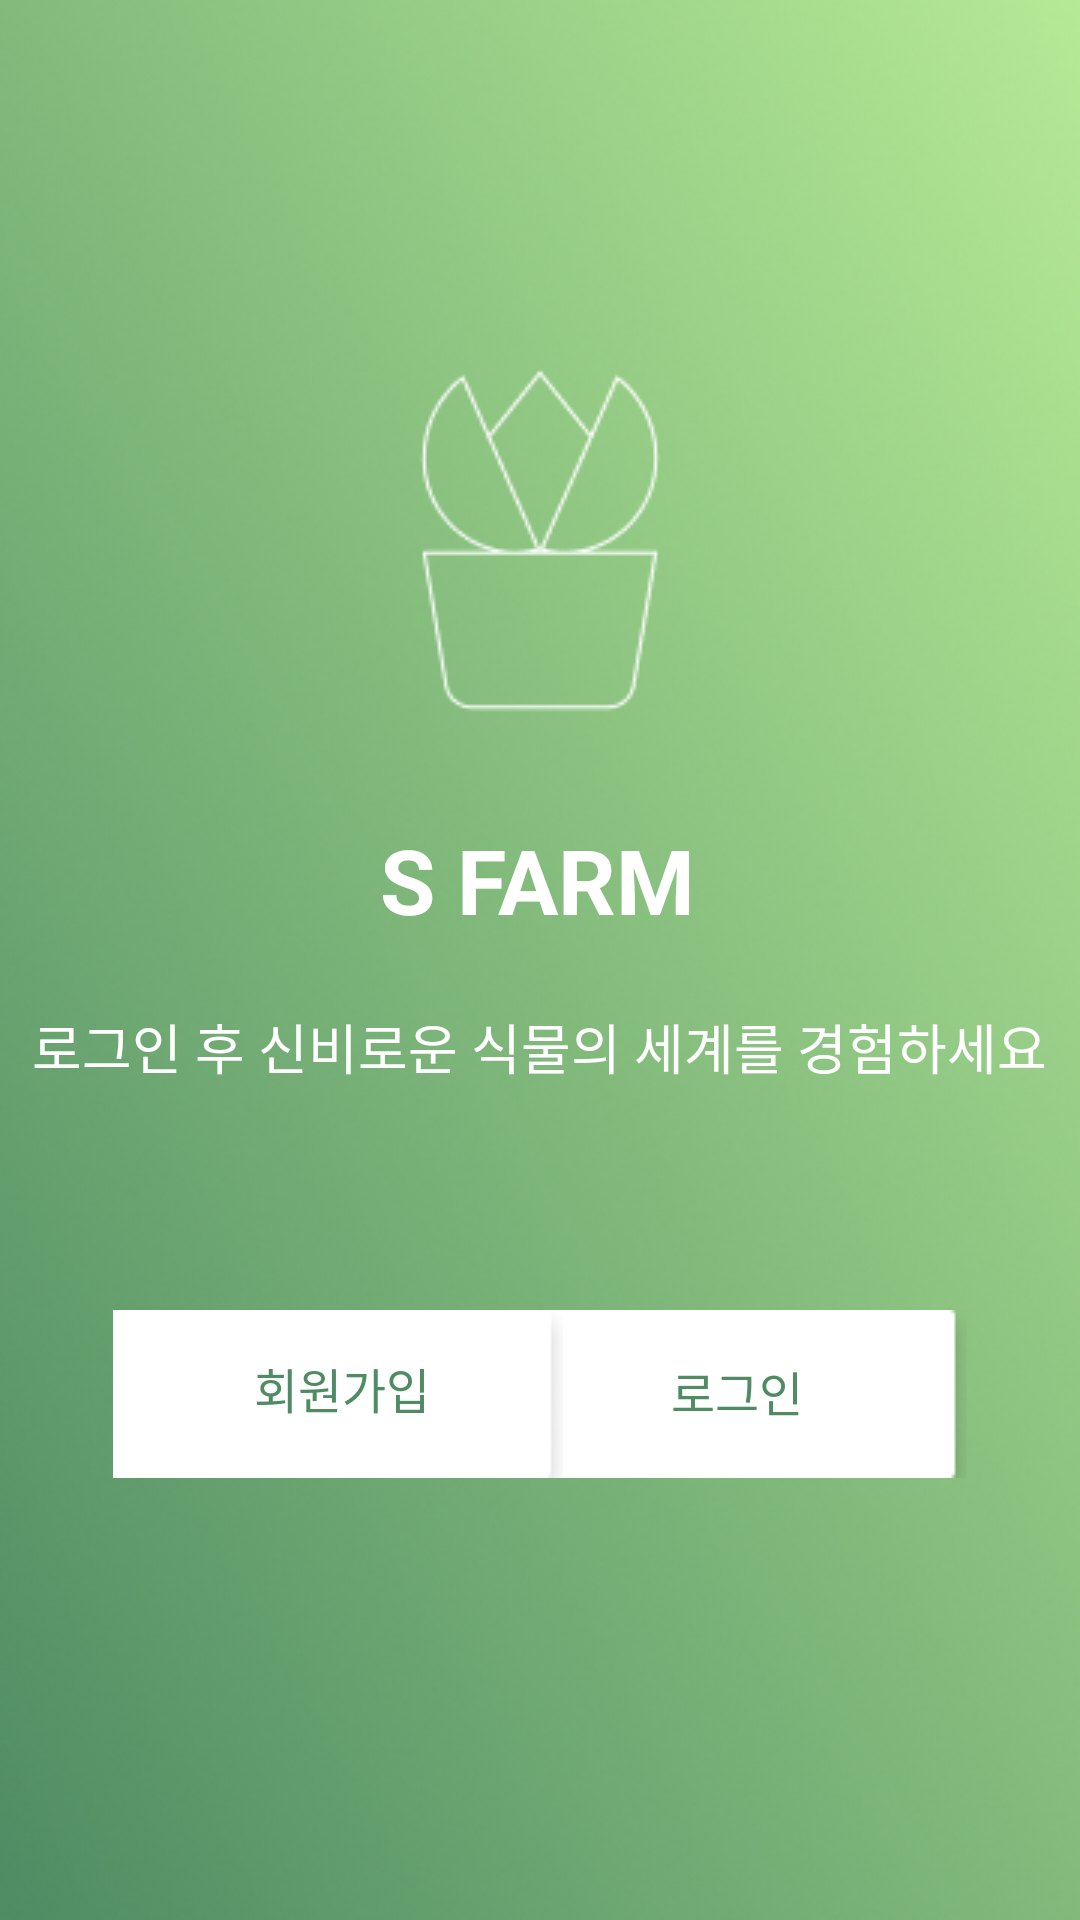

Icon bounding boxes for this 1080px x 1920px phone screenshot, format (x1, y1, x2, y2):
planticon: (391, 360, 720, 720)
